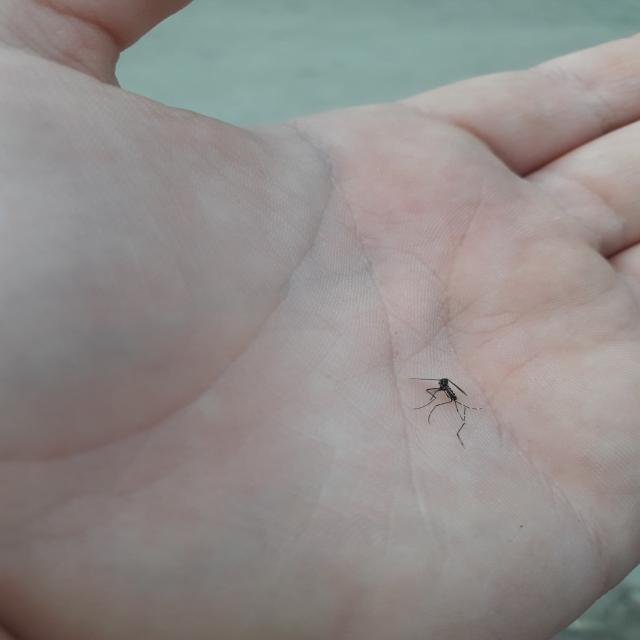albopictus: (405, 371, 482, 444)
